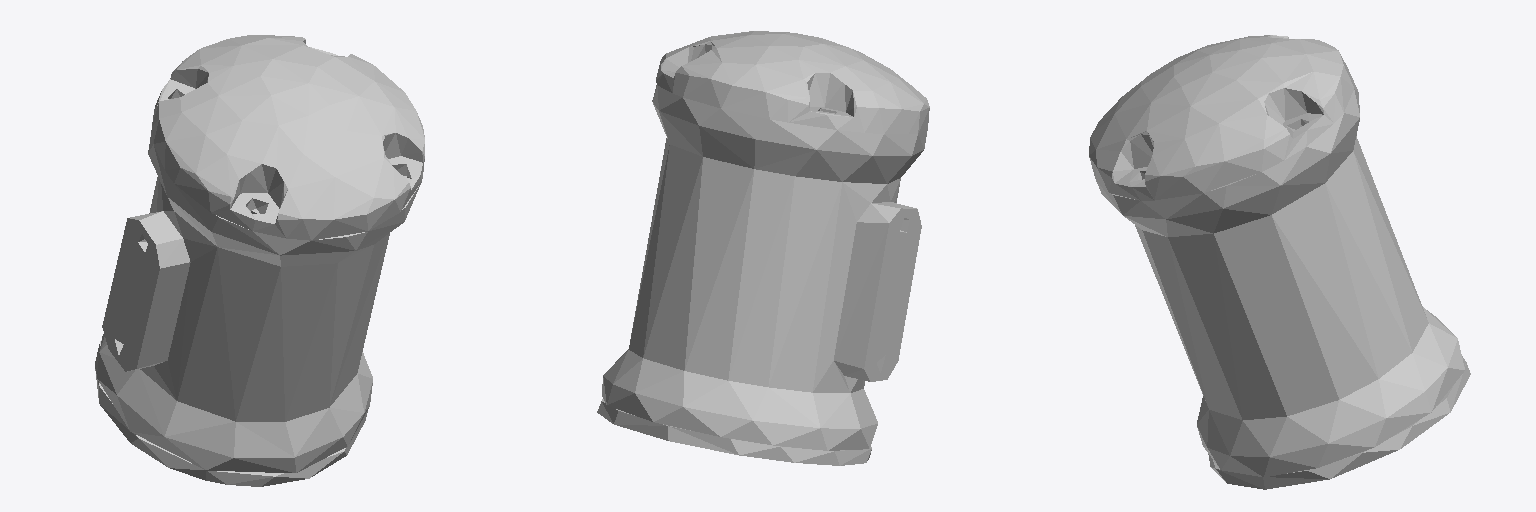
Rendered from light_left_down.obj.
3 views of the same model, side by side, from view 1: azimuth 30°, elevation 25°; view 2: azimuth 150°, elevation 25°; view 3: azimuth 270°, elevation 25° (orthographic).
Parts seen in each view (by area): view 1: light_left_down; view 2: light_left_down; view 3: light_left_down.
Part boxes in pixels (x1,y1,x2,y2): light_left_down: (95,35,424,486); light_left_down: (597,31,929,465); light_left_down: (1089,35,1470,489).
Size of the model in its own units: 0.0387 by 0.0597 by 0.0513.